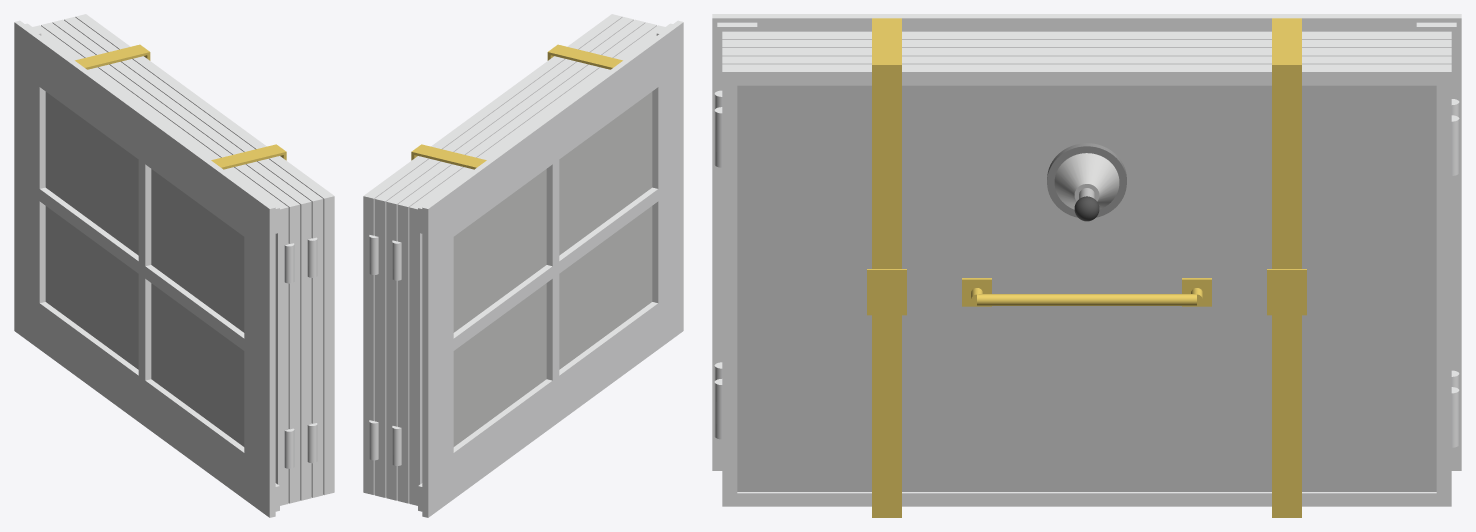
Rendered from replacement-panel.glb.
The picture shows the model from 3 angles, left to right: view 1: azimuth 30°, elevation 25°; view 2: azimuth 150°, elevation 25°; view 3: azimuth 270°, elevation 25°; orthographic projection. The views are drawn at different scales.
Visible parts, largest first — view 1: replacement-panel.001, replacement-panel-substrate, replacement-panel-frames, replacement-panel-straps; view 2: replacement-panel.001, replacement-panel-substrate, replacement-panel-frames, replacement-panel-straps; view 3: replacement-panel-substrate, replacement-panel-frames, replacement-panel-straps, replacement-panel.001, replacement-panel-handle, grapple-cone, grapple-base.
Boxes of the visible parts, x1,y1,x2,y2 form: replacement-panel.001: (14, 20, 279, 517); replacement-panel-substrate: (45, 92, 244, 446); replacement-panel-frames: (33, 14, 334, 505); replacement-panel-straps: (75, 44, 286, 169); replacement-panel.001: (418, 20, 683, 517); replacement-panel-substrate: (453, 92, 652, 446); replacement-panel-frames: (363, 14, 664, 505); replacement-panel-straps: (411, 44, 622, 169); replacement-panel-substrate: (737, 85, 1436, 491); replacement-panel-frames: (714, 31, 1459, 506); replacement-panel-straps: (867, 18, 1306, 517); replacement-panel.001: (712, 14, 1461, 470); replacement-panel-handle: (962, 278, 1211, 306); grapple-cone: (1054, 153, 1119, 209); grapple-base: (1047, 143, 1126, 217).
Bounding box in the file's own units: 0.412 × 1 × 1.5.
